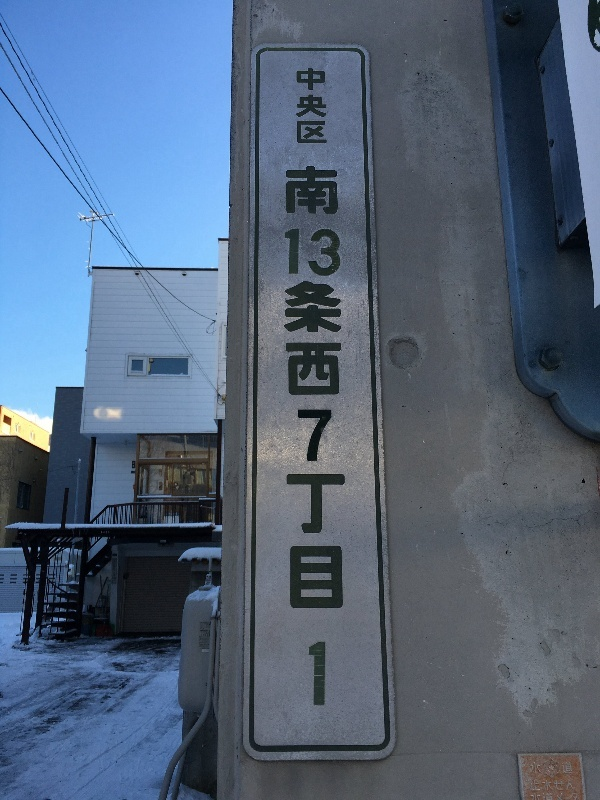text: (289, 167, 304, 711), (305, 167, 320, 711), (321, 167, 336, 711), (337, 167, 349, 711), (285, 167, 288, 711), (305, 67, 320, 144), (297, 67, 304, 144), (321, 67, 327, 144), (530, 762, 544, 776), (545, 780, 560, 792), (530, 780, 544, 792), (561, 780, 575, 792), (562, 763, 576, 774), (545, 793, 560, 800), (561, 793, 576, 800), (530, 793, 544, 800), (577, 793, 578, 800)
